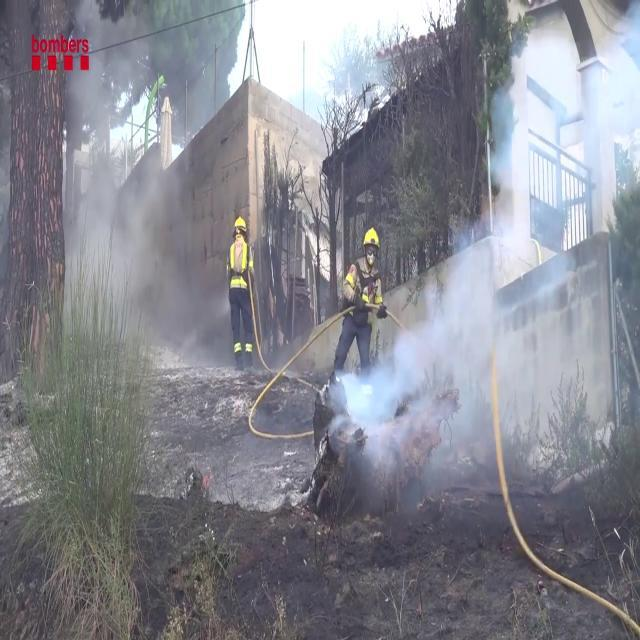Smoke: (477, 0, 627, 485), (338, 230, 501, 488), (63, 120, 217, 366)
